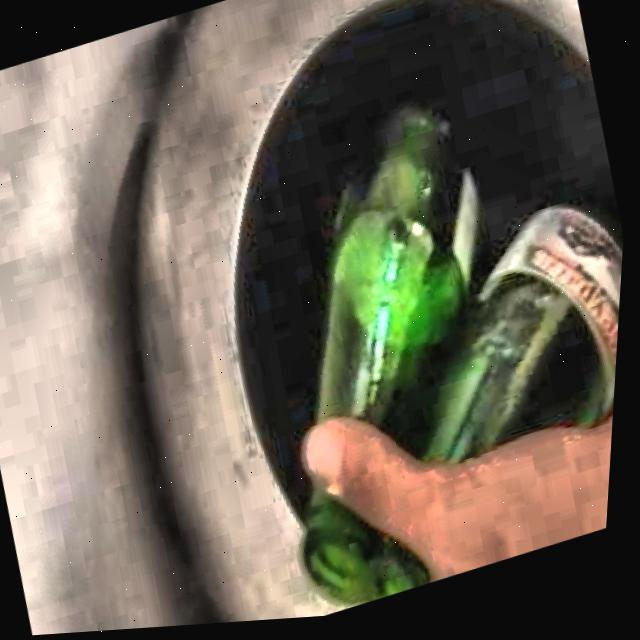glass: (323, 115, 626, 470), (310, 493, 451, 609)
